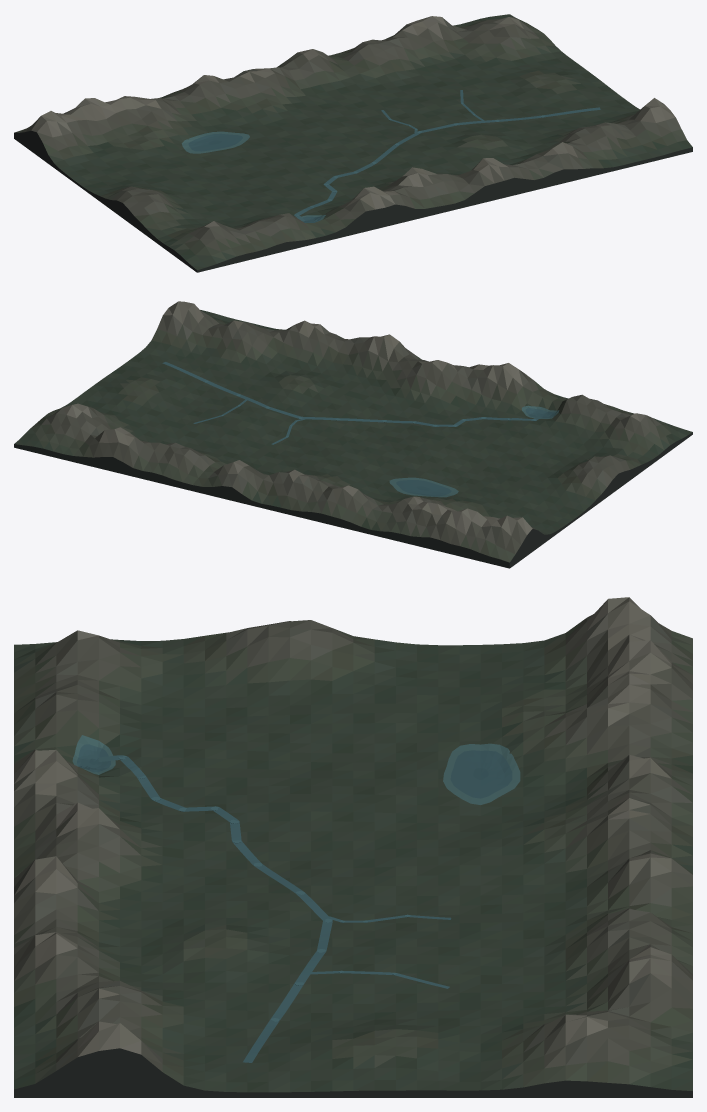
The model's file is barovia-relief.glb.
3 views of the same model, one above another, from view 1: azimuth 30°, elevation 25°; view 2: azimuth 150°, elevation 25°; view 3: azimuth 270°, elevation 25° (orthographic). The views are drawn at different scales.
Visible parts, largest first — view 1: Barovia · overworld terrain relief; view 2: Barovia · overworld terrain relief; view 3: Barovia · overworld terrain relief.
Part boxes in pixels (x1,y1,x2,y2): Barovia · overworld terrain relief: (14, 14, 692, 272); Barovia · overworld terrain relief: (14, 301, 692, 568); Barovia · overworld terrain relief: (14, 597, 692, 1097).
Size of the model in its own units: 100 by 6.89 by 64.
